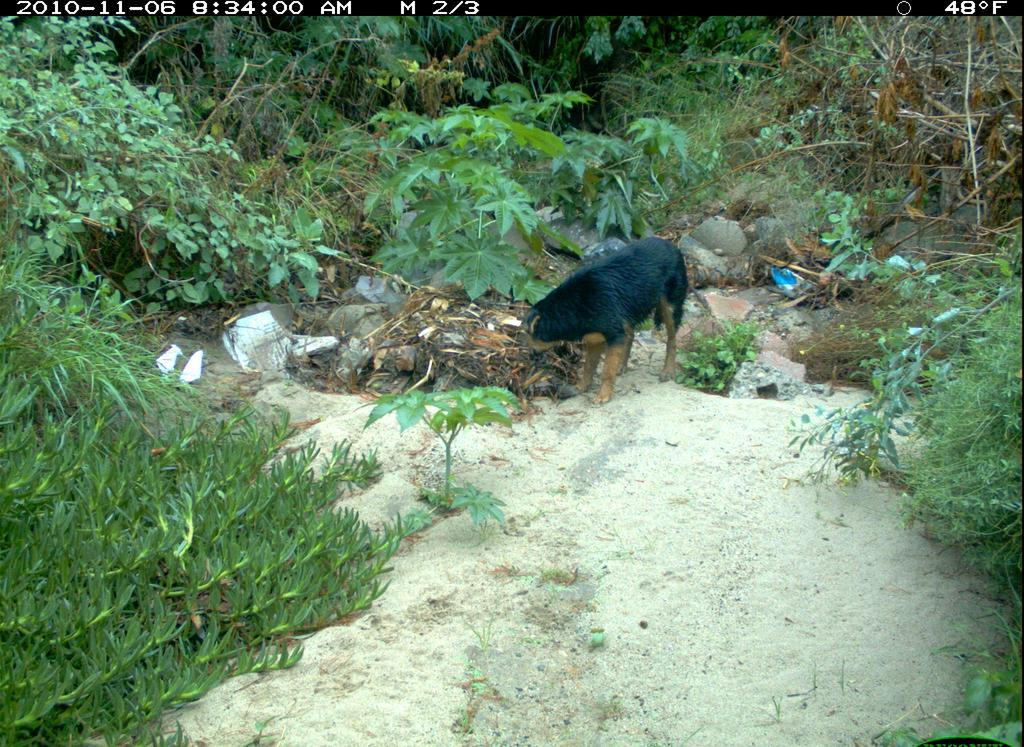dog: (494, 236, 707, 404)
